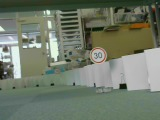speed_30: (89, 47, 107, 65)
